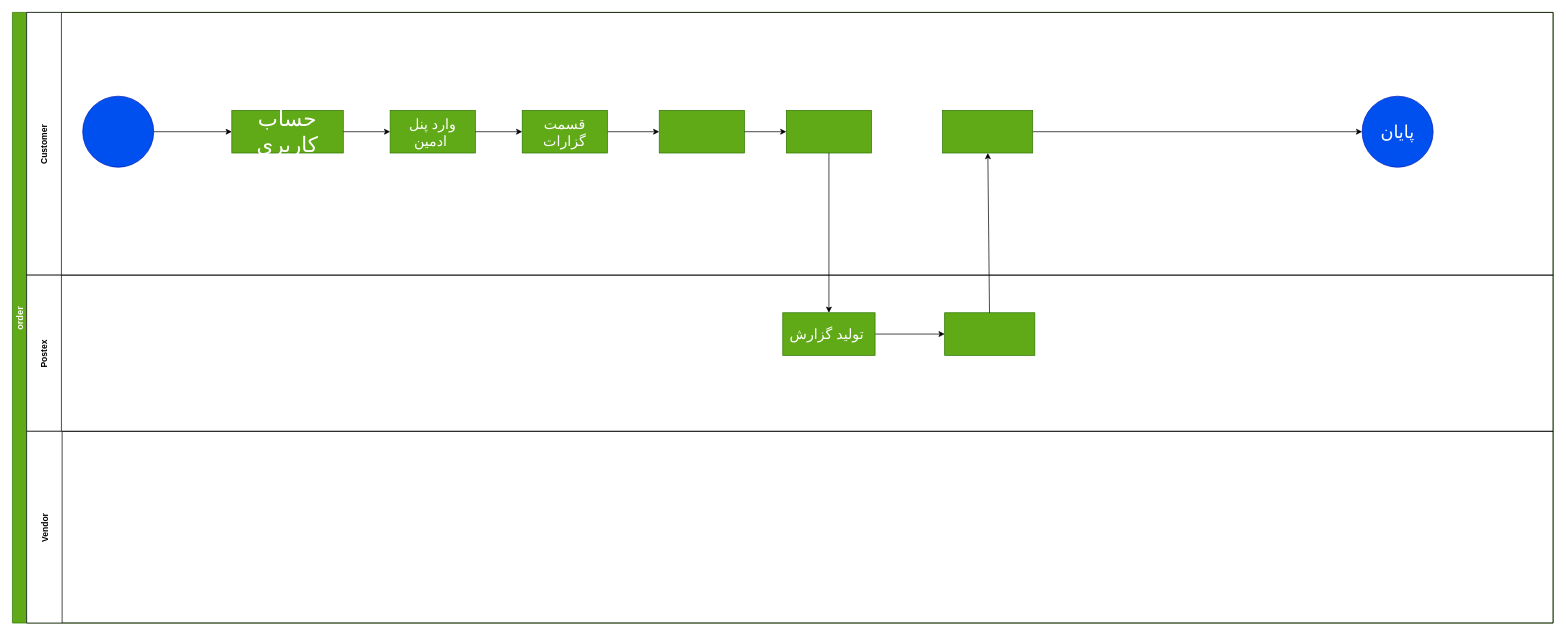
This 1566x635 diagram has some shape labels left out. Here are the shapes that lost their labels. From the top down, the centre of each, then its label:
the point at 118,131: شروع
the point at 701,131: انتخاب گزارش مورد نیاز
the point at 829,131: انتخاب تاریخ
the point at 987,131: دانلود گزارش
the point at 989,333: ایجاد اکسل گزارش
